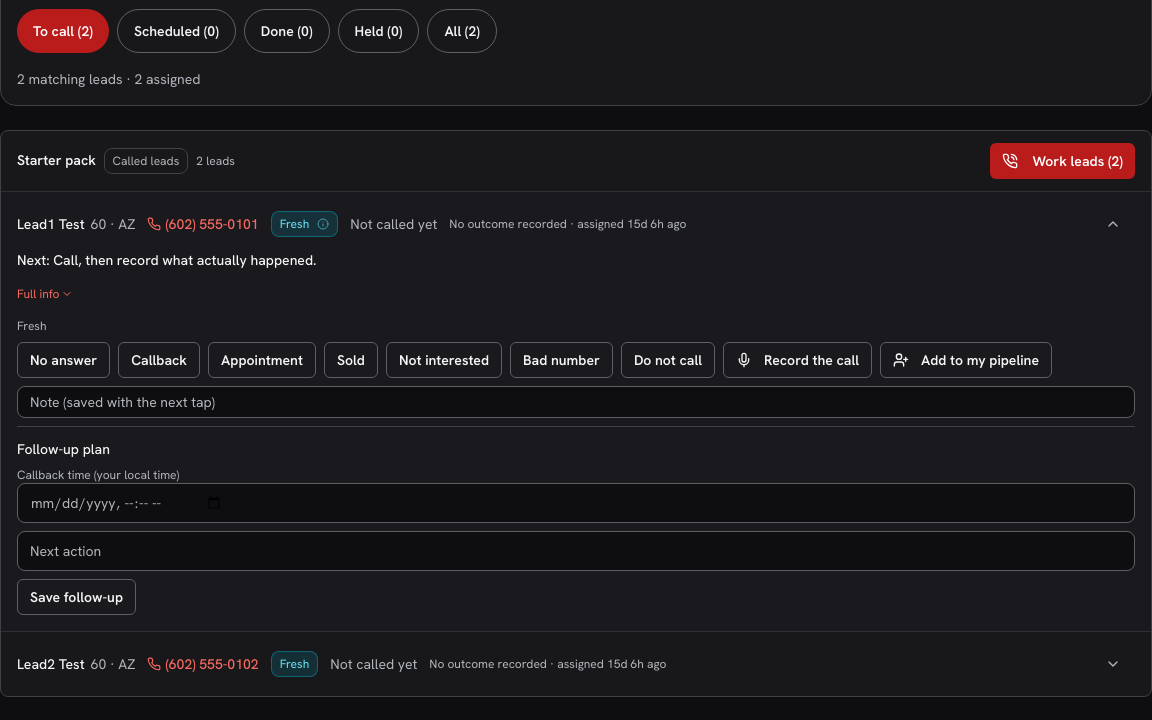
Test: My Leads recordings and pipeline › puts a lead into the agent's pipeline with one tap and will not offer it twice
(page scrolled)
Click the button with test id "lead-to-pipeline": (966,360) [880,342,1052,378]
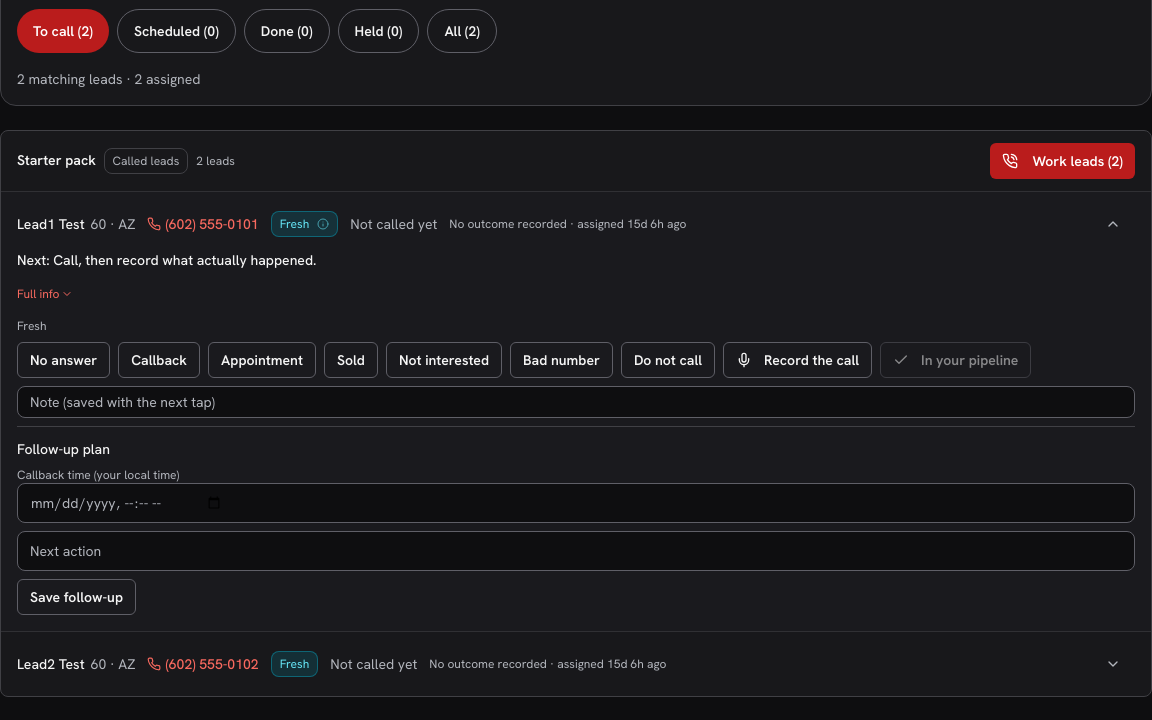
Result: the button with test id "lead-to-pipeline" reads "In your pipeline" at [880,342,1031,378]
Result: the button with test id "lead-to-pipeline" is disabled at [880,342,1031,378]
